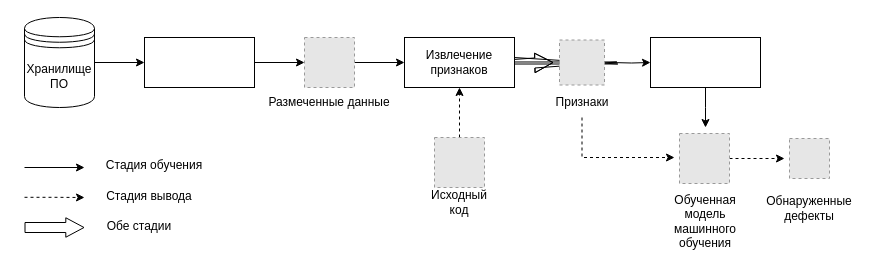
This 869x268 diagram has some shape labels left out. Grey dashed boxes stand in for pictures. Each missing label, with the box of its shape:
Обучение модели машинного обучения: (650, 36, 760, 88)
Разметка данных: (144, 36, 254, 88)
